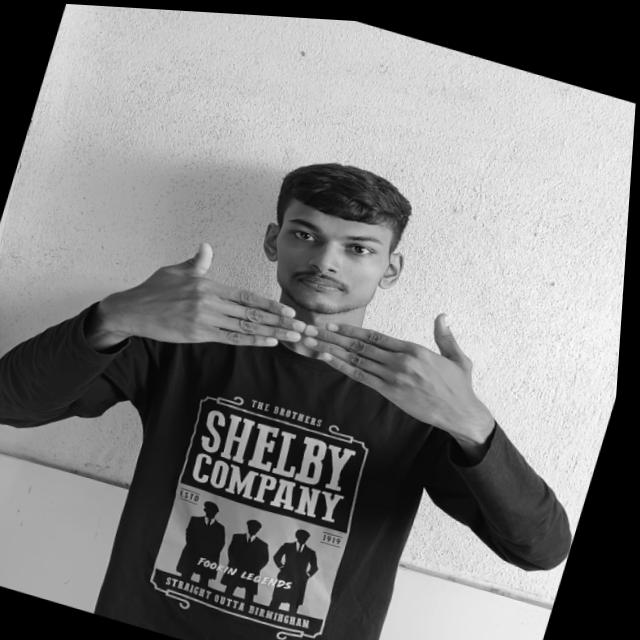Night: (122, 223, 501, 428)
